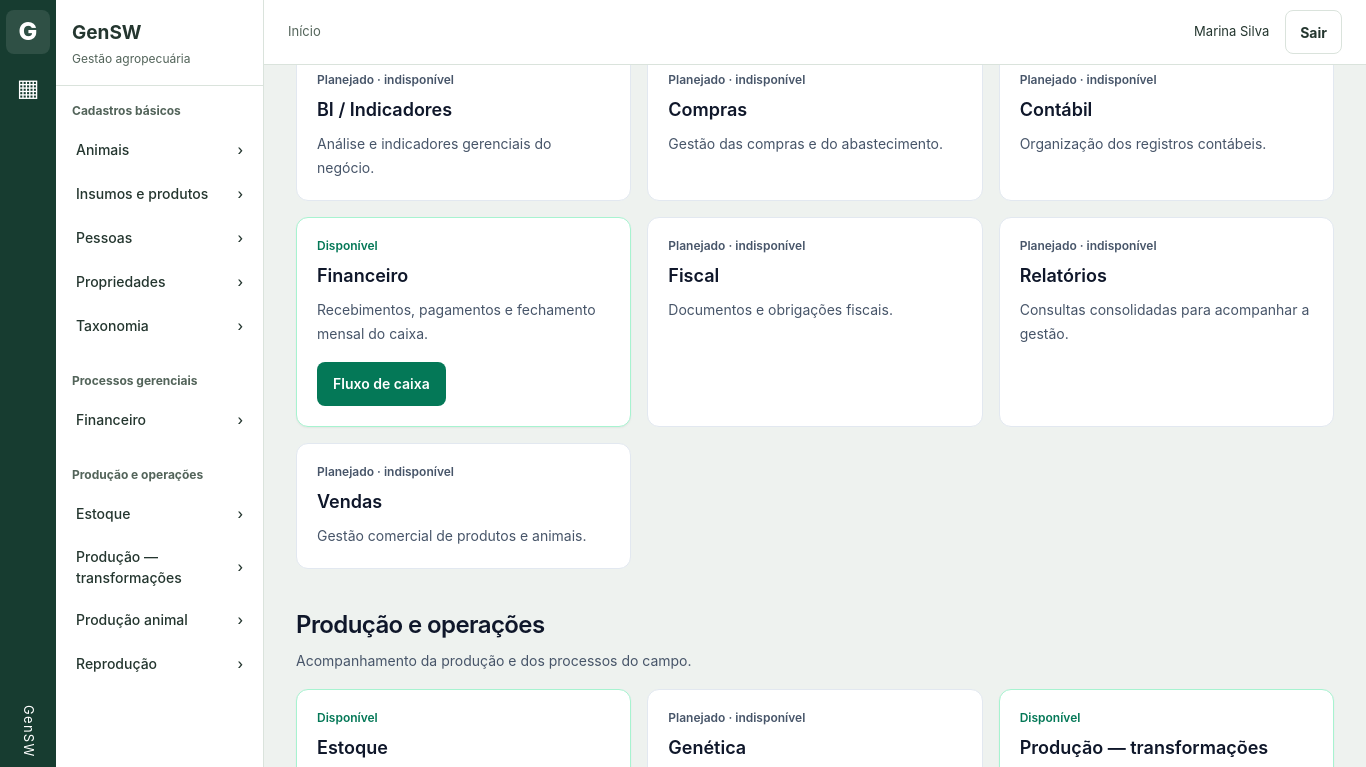
Test case: AppRoutes › abre Fluxo de caixa pela home e permite voltar ao início
The image size is (1366, 767).
(page scrolled)
Click the link "Fluxo de caixa" at (381,384), box [317, 362, 446, 406]
(page scrolled)
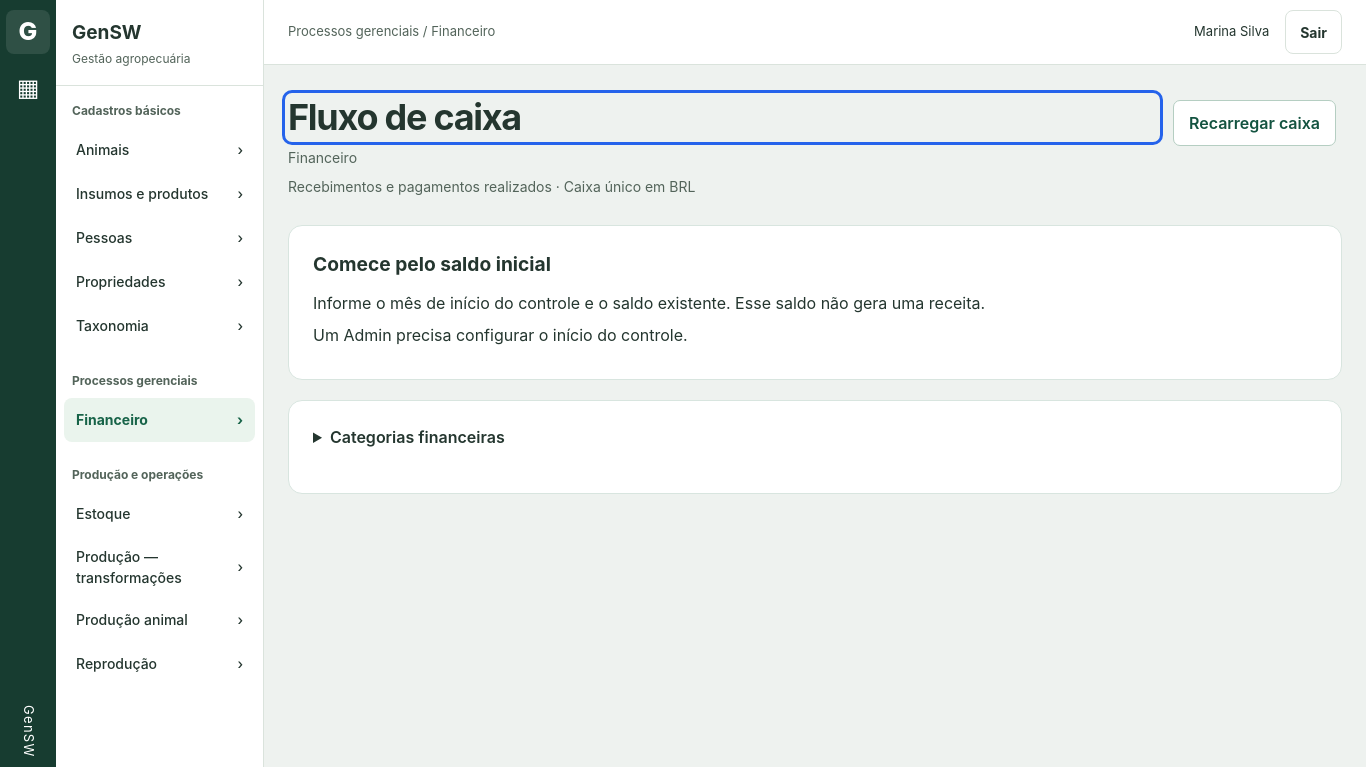
Now the heading "Fluxo de caixa" is shown, box [288, 95, 521, 139]
Now the text "Um Admin precisa configurar o início do controle." is shown, box [313, 325, 688, 345]
Click the link named "Ir para Início" at (28,32), box [6, 10, 50, 54]
(page scrolled)
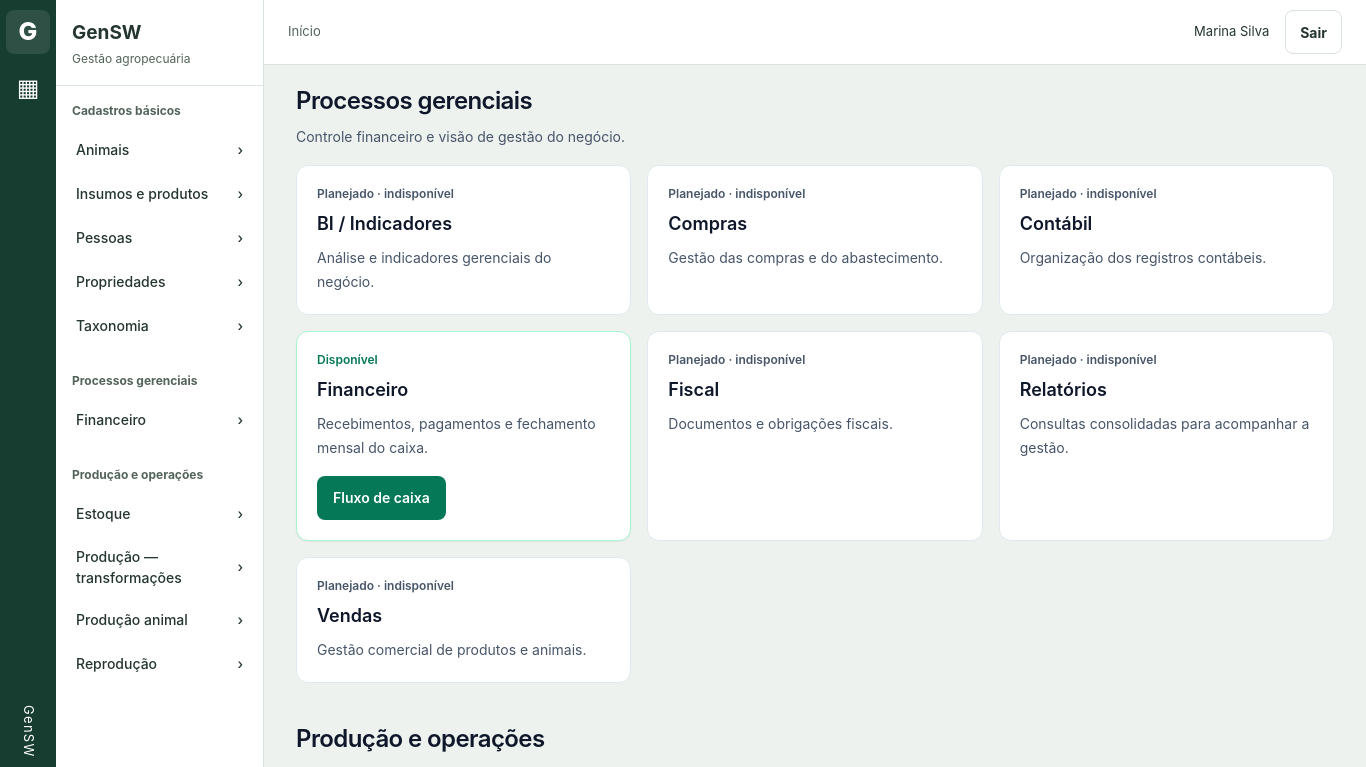
Now the element "Processos gerenciais" is shown, box [296, 85, 1334, 683]
